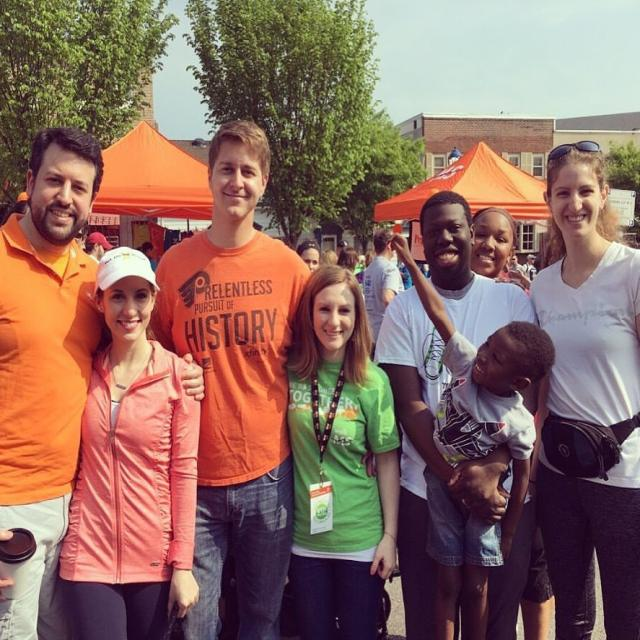body: (147, 117, 314, 639), (371, 189, 542, 639), (387, 231, 558, 639), (513, 137, 639, 639), (56, 245, 203, 640), (0, 128, 111, 640), (283, 263, 403, 640), (462, 202, 556, 640), (70, 225, 553, 297)
